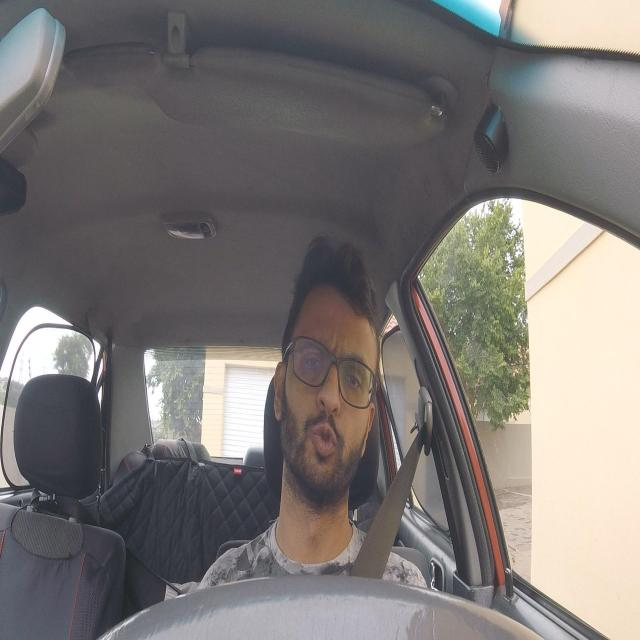open: (295, 330, 333, 394), (337, 348, 373, 411)
